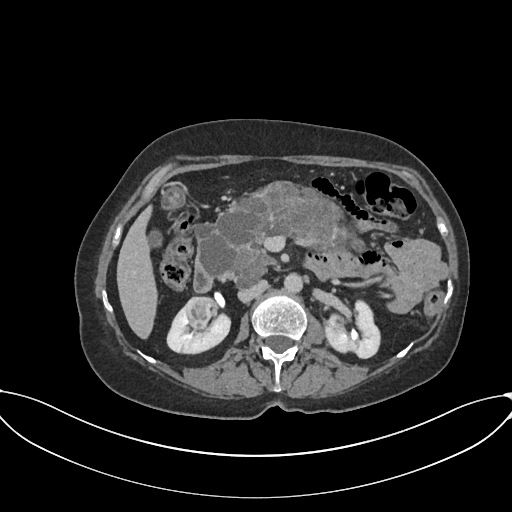Lesion: (184, 294, 222, 335)
